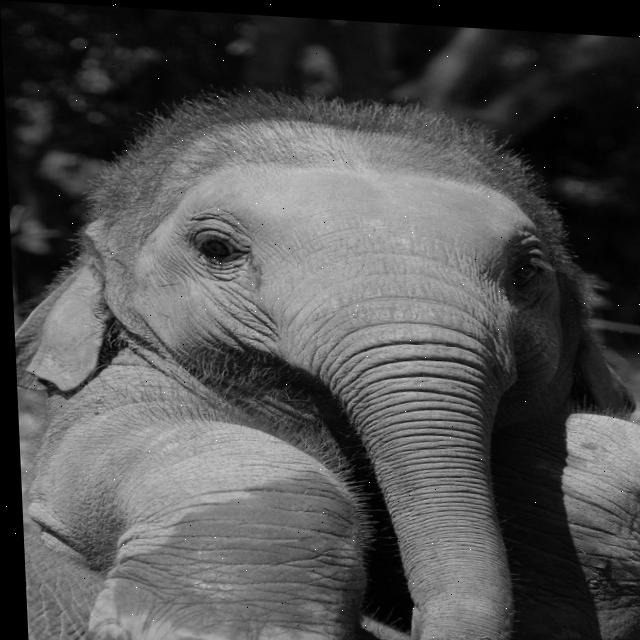Buffalo: (4, 71, 640, 640)
